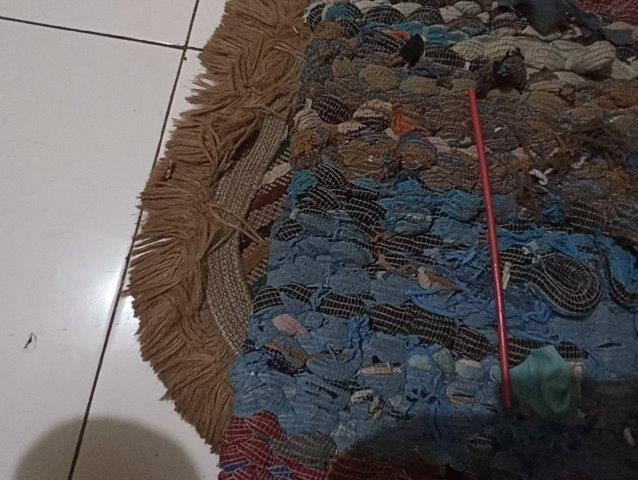sedotan: (468, 90, 510, 402)
